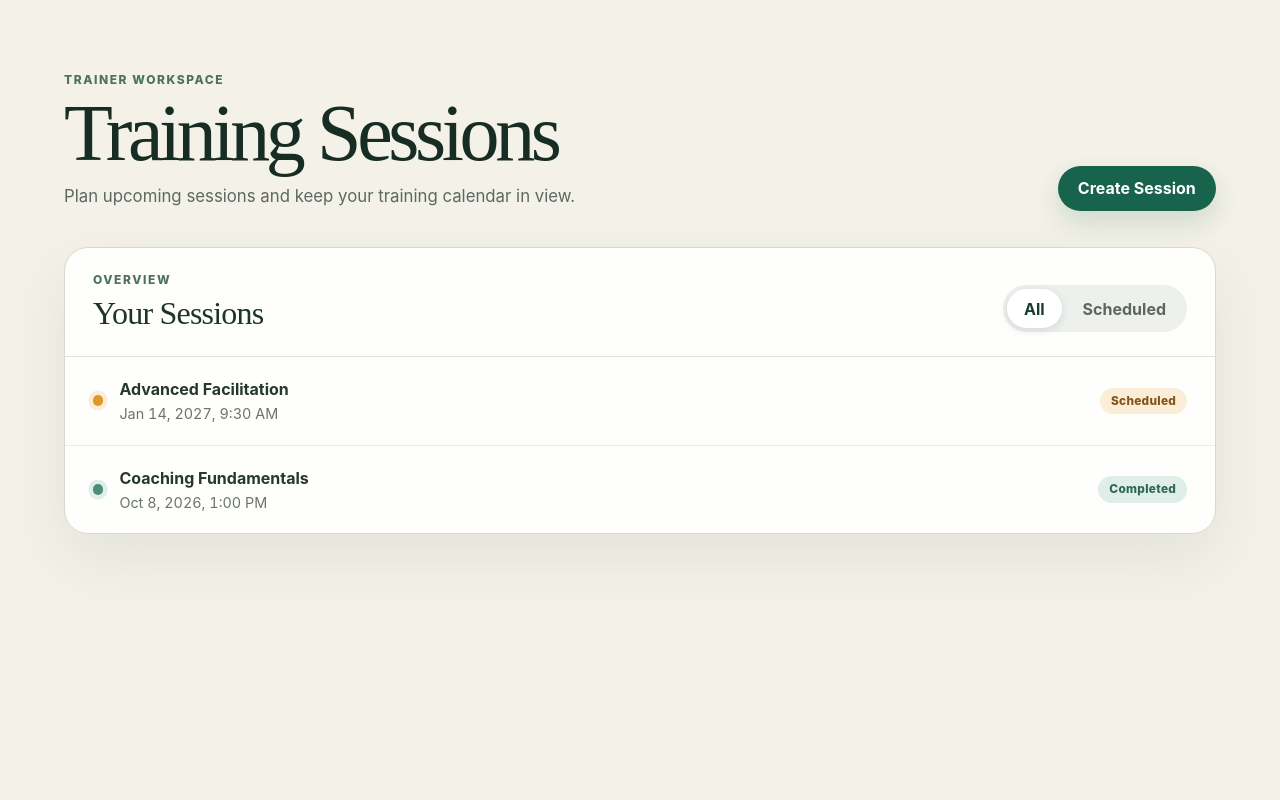
Training Sessions workspace › creates a trimmed future session and shows it in the list
This screenshot has width=1280, height=800.
Expected: the heading "Advanced Facilitation" is shown, [119,379,289,401]
Click the button "Create Session".
click(1137, 188)  # box [1058,166,1216,211]
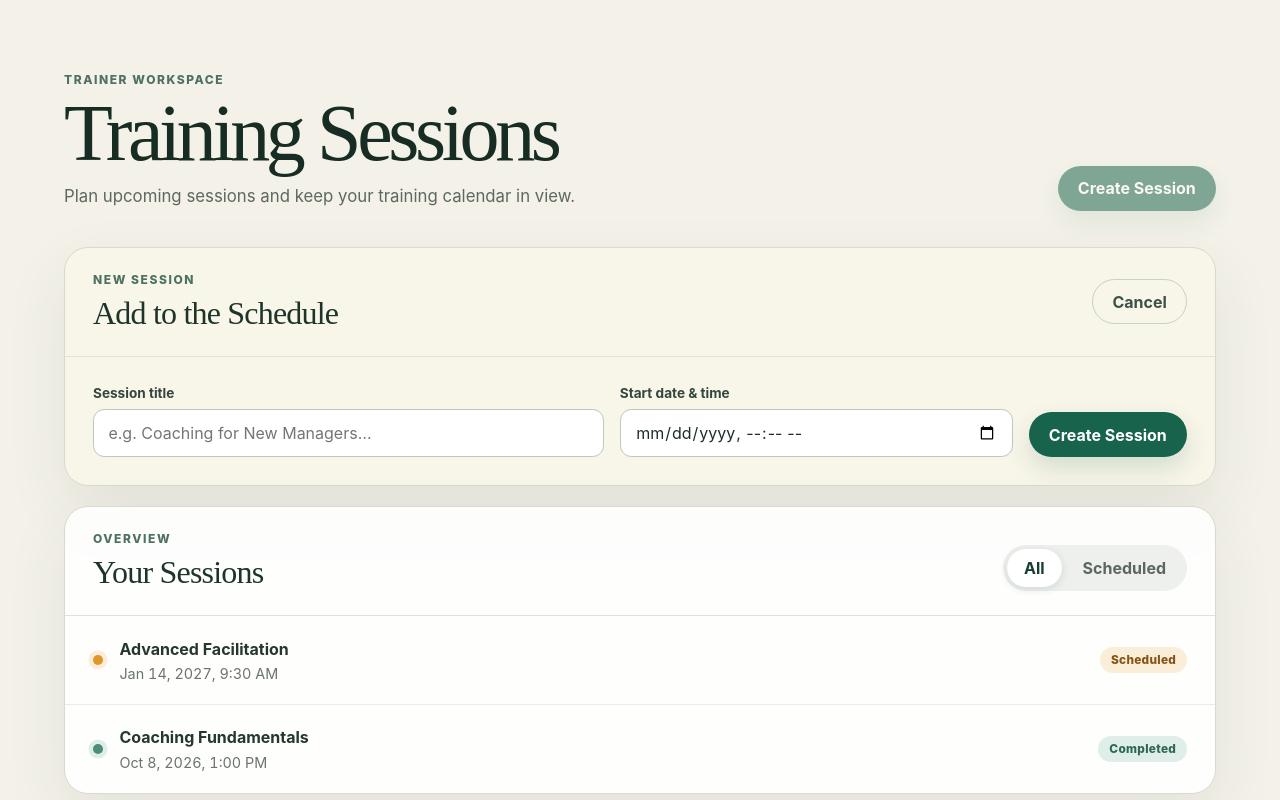
Type "  Leadership Lab  " into the field labelled "Session title".
click(348, 433); type("  Leadership Lab  ")  # box [93,409,604,457]
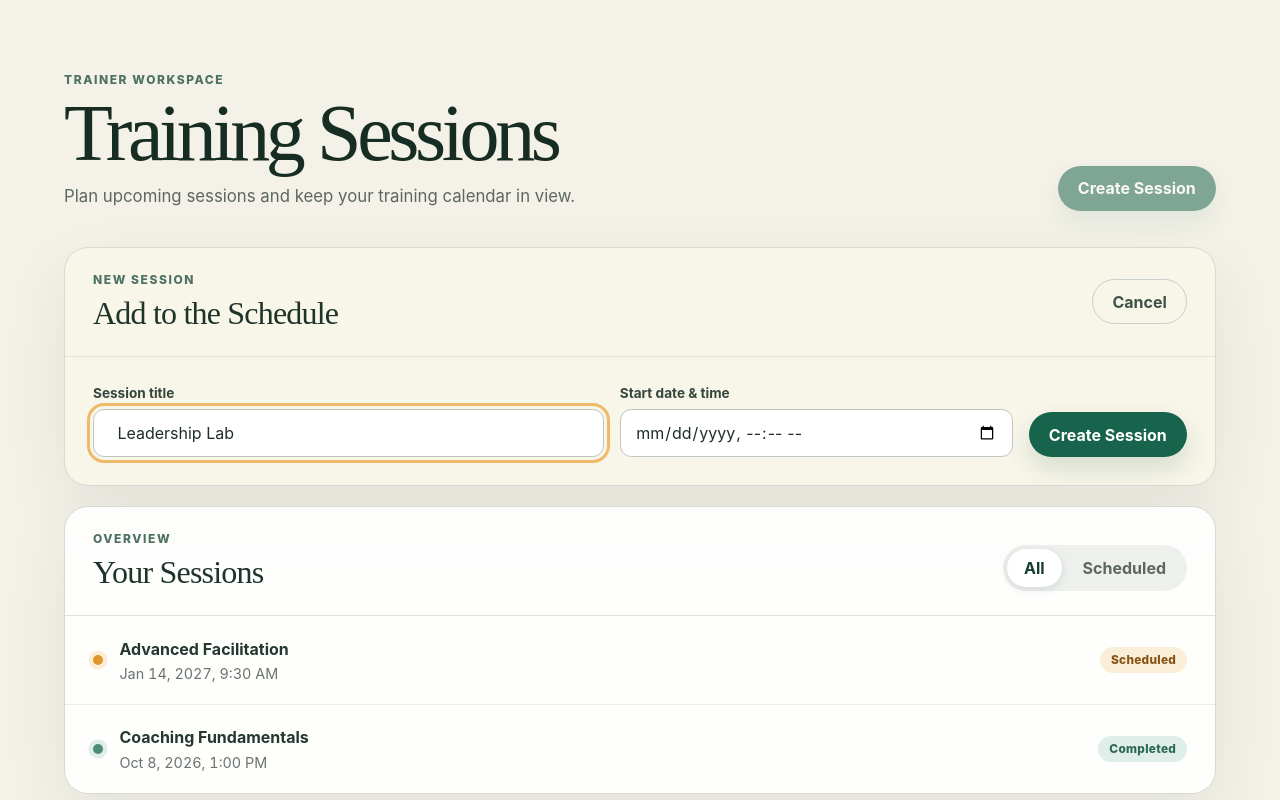
Type "2099-06-18T12:30" into the field labelled "Start date & time".
click(816, 433); type("2099-06-18T12:30")  # box [620,409,1013,457]
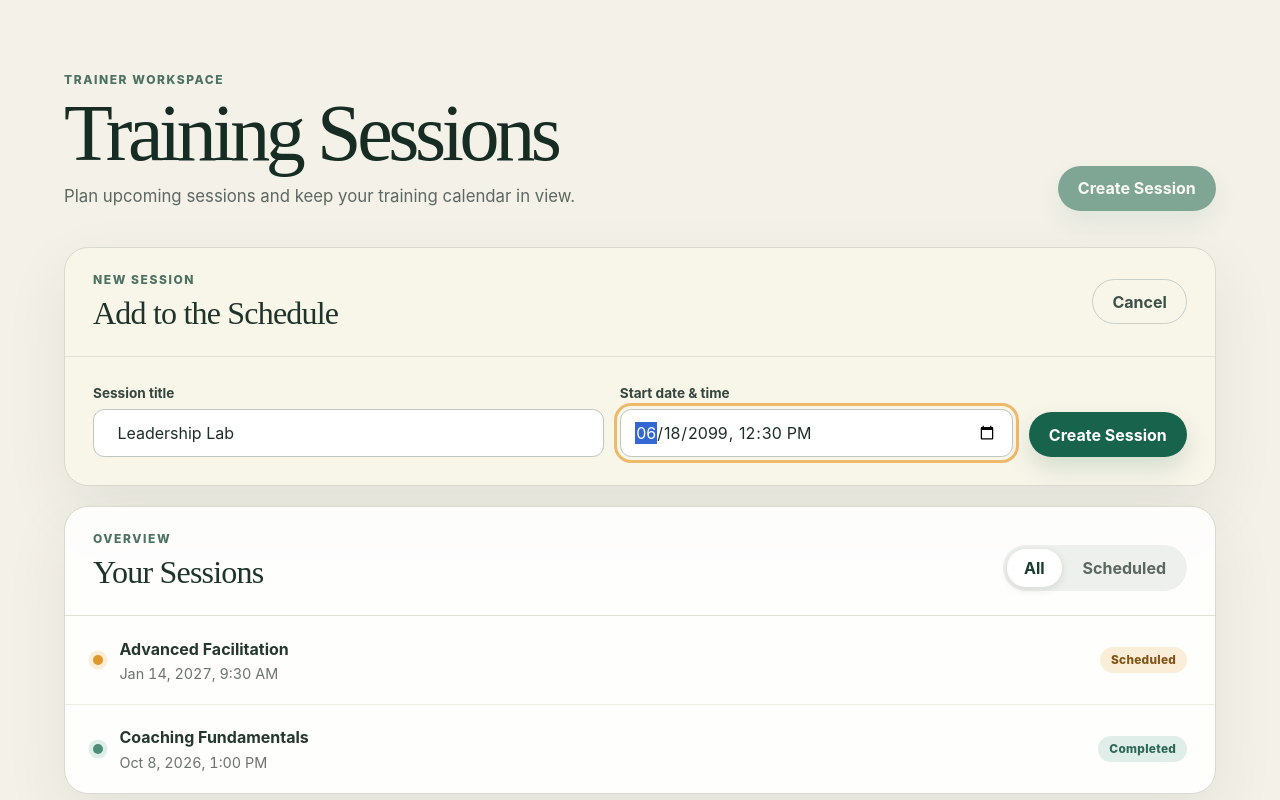
Click the 2nd button "Create Session".
click(1108, 435)  # box [1029,412,1187,457]
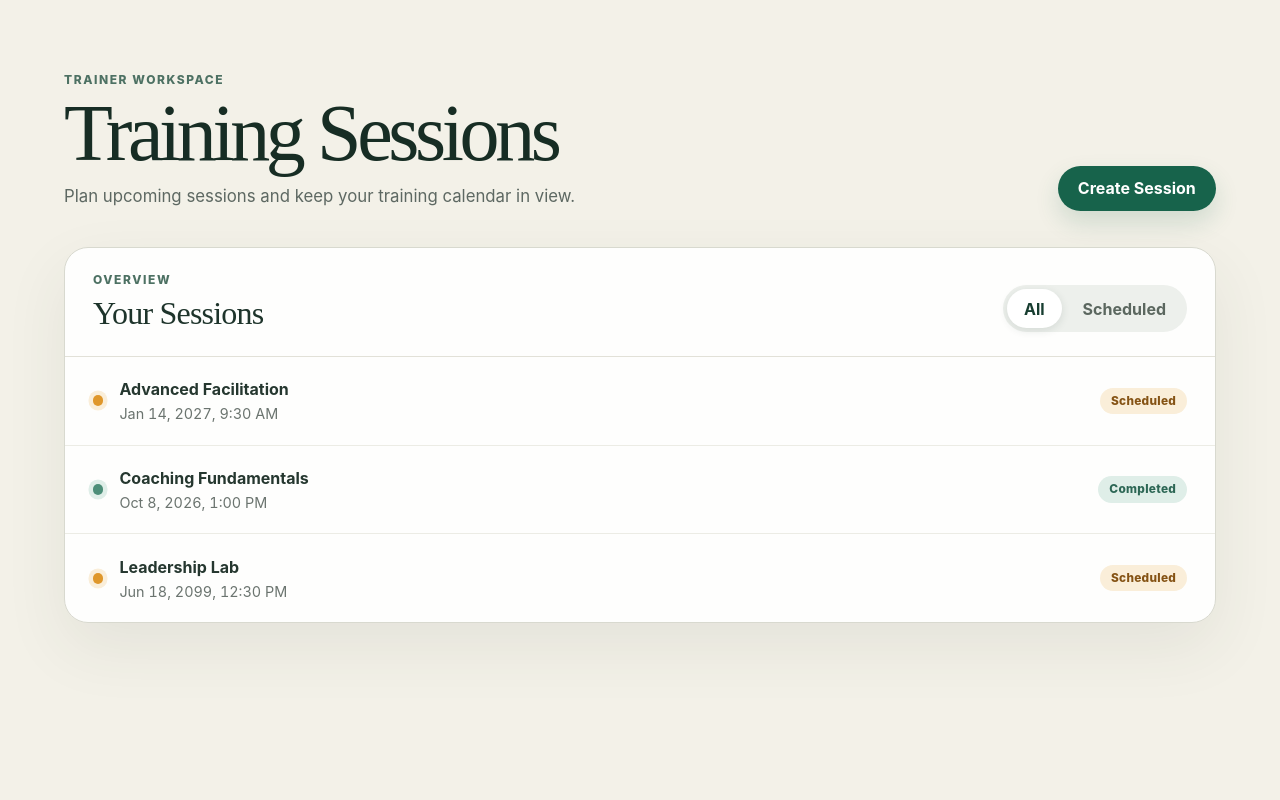
Result: the heading "Leadership Lab" is shown at [119,557,239,577]
